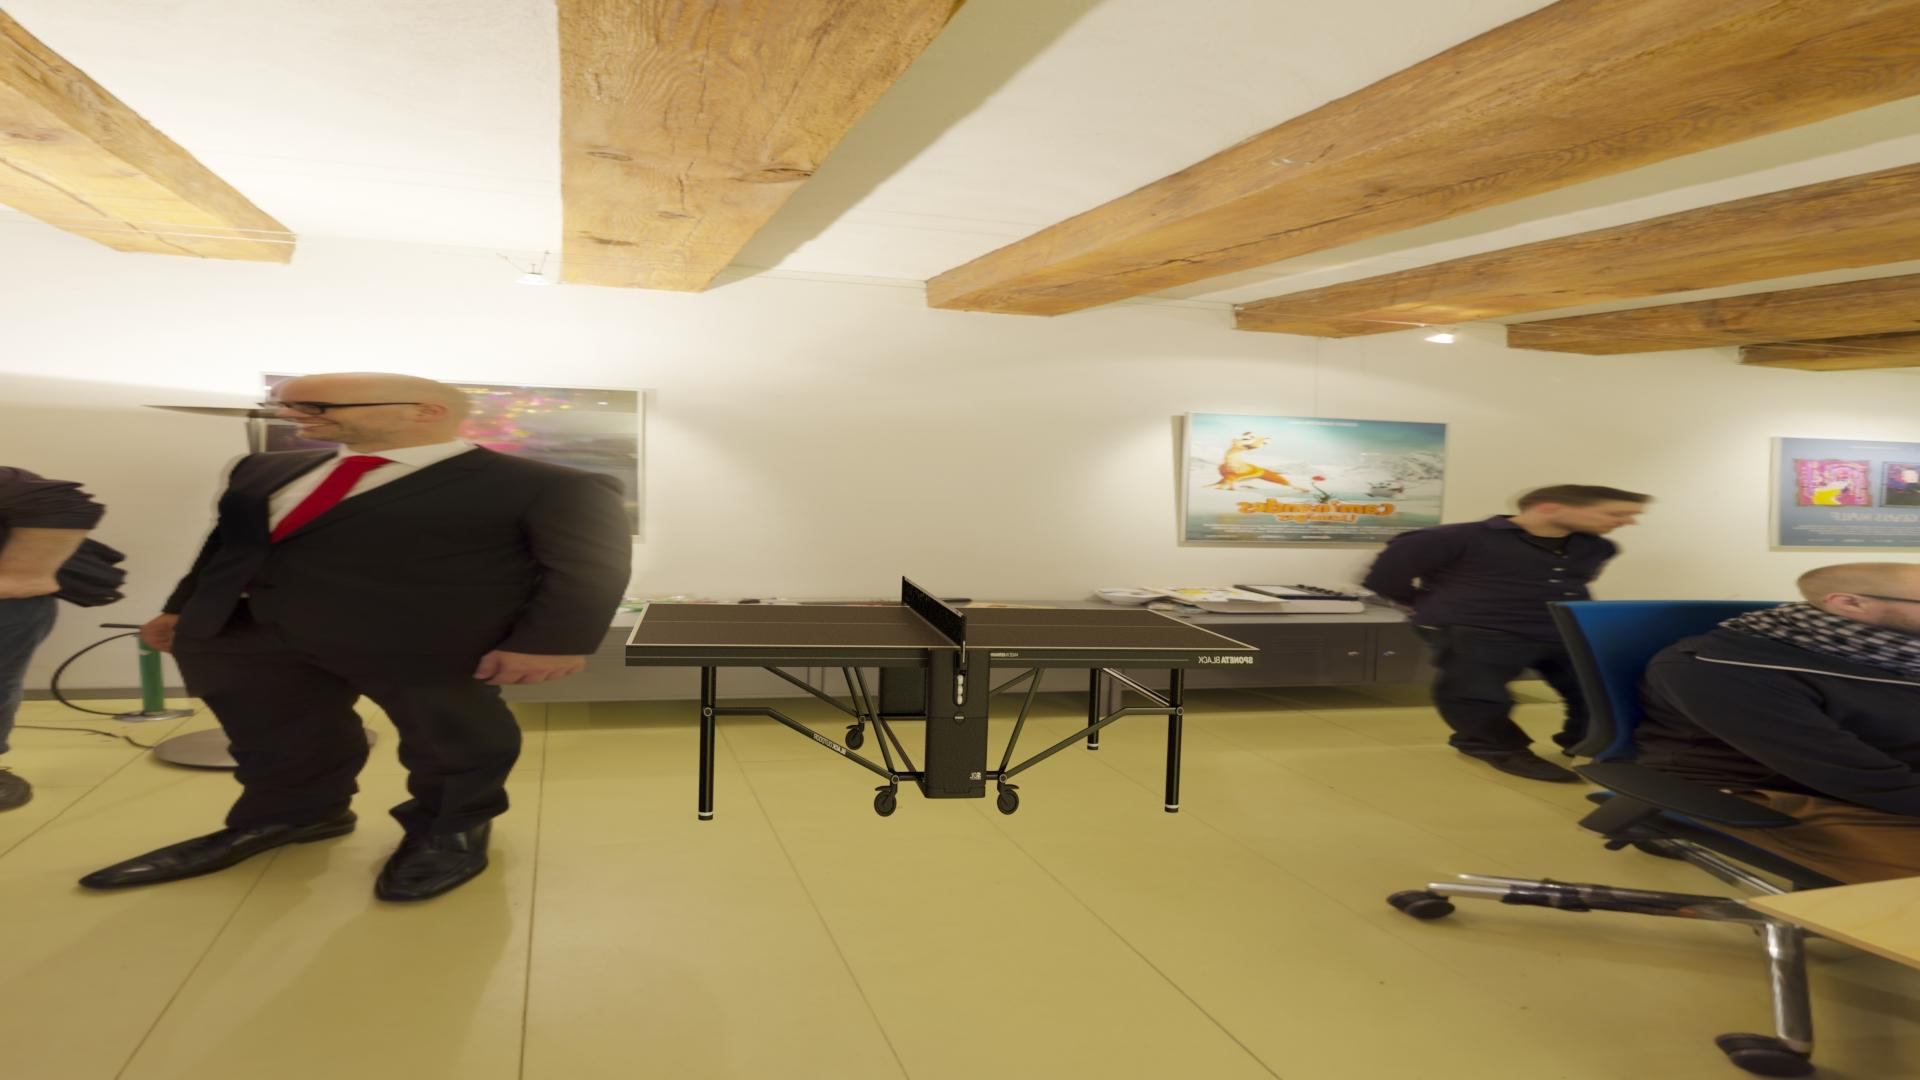table: (632, 603, 1254, 649)
